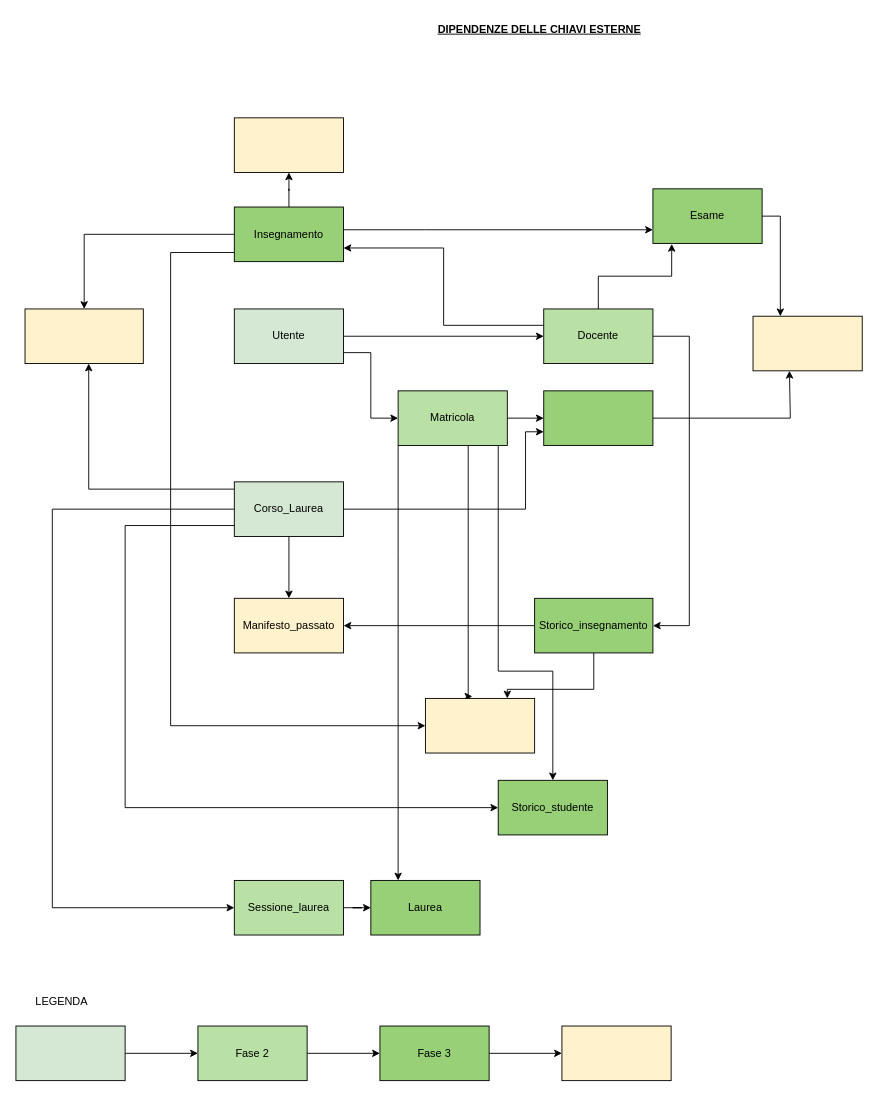
Some shapes in this 878 by 1097 pixel diagram are drawn without their labels. Each missing label, with the centre of its shape:
"Esito" belongs at (x=807, y=343).
"Fase 1" belongs at (x=70, y=1053).
"Fase 4" belongs at (x=616, y=1053).
"Manifesto_insegnamenti" belongs at (x=83, y=336).
"Propedeuticita" belongs at (x=288, y=144).
"Storico_esame" belongs at (x=480, y=725).
"Studente" belongs at (x=598, y=417).
